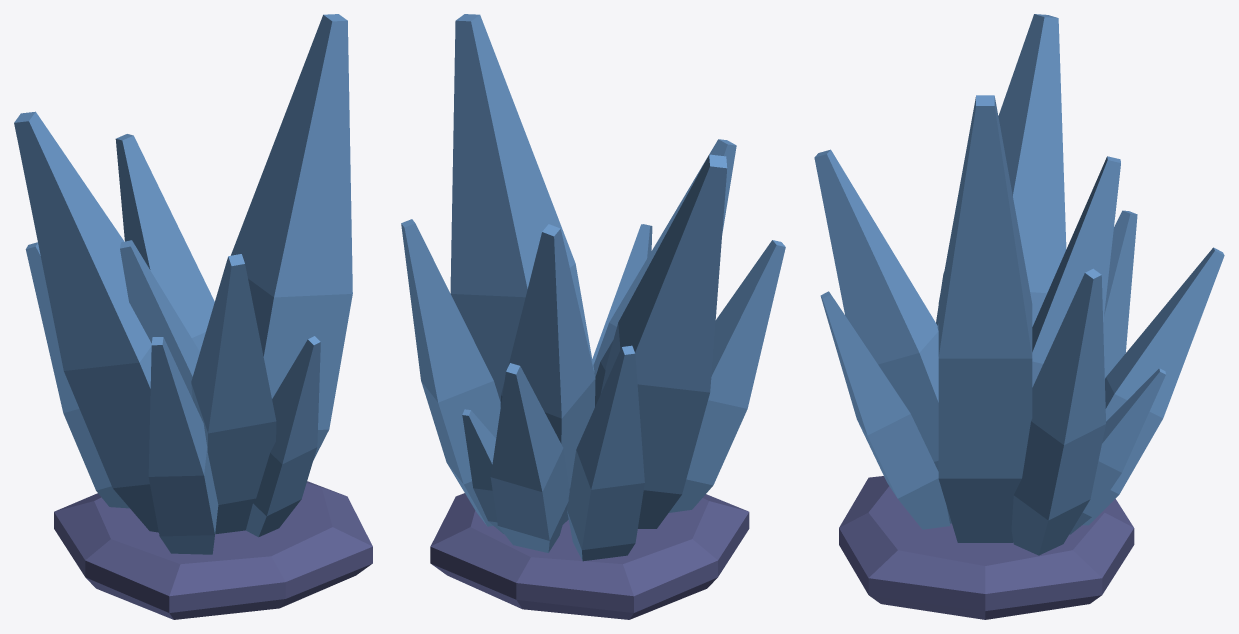
Rendered from crystal.glb.
3 views of the same model, side by side, from view 1: azimuth 30°, elevation 25°; view 2: azimuth 150°, elevation 25°; view 3: azimuth 270°, elevation 25° (orthographic).
Parts seen in each view (by area): view 1: Cube.002, Cube.004, Cube.001, Cube.012, Cube.010, Cube.003, Cube.011, Cube.005, Cube.009; view 2: Cube.002, Cube.004, Cube.001, Cube.006, Cube.009, Cube.003, Cube.008, Cube.010, Cube.007, Cube.012, Cube.011; view 3: Cube.002, Cube.001, Cube.006, Cube.012, Cube.004, Cube.011, Cube.008, Cube.003, Cube.007, Cube.009.
Part boxes in pixels (box(x1,y1,x2,y2)): Cube.002: box(231, 14, 352, 460); Cube.004: box(14, 111, 158, 532); Cube.001: box(54, 481, 372, 619); Cube.012: box(191, 254, 276, 534); Cube.010: box(148, 337, 218, 554); Cube.003: box(115, 134, 214, 351); Cube.011: box(245, 336, 320, 537); Cube.005: box(120, 240, 199, 399); Cube.009: box(25, 242, 129, 508); Cube.002: box(450, 14, 594, 402); Cube.004: box(601, 154, 727, 528); Cube.001: box(430, 493, 749, 619); Cube.006: box(401, 219, 500, 526); Cube.009: box(567, 345, 644, 561); Cube.003: box(500, 224, 595, 524); Cube.008: box(490, 363, 569, 552); Cube.010: box(669, 240, 785, 512); Cube.007: box(462, 409, 503, 533); Cube.012: box(593, 139, 736, 376); Cube.011: box(592, 224, 652, 365); Cube.002: box(938, 95, 1032, 542); Cube.001: box(839, 476, 1134, 619); Cube.006: box(1011, 268, 1105, 555); Cube.012: box(814, 149, 951, 523); Cube.004: box(936, 14, 1066, 326); Cube.011: box(820, 291, 950, 529); Cube.008: box(1082, 247, 1224, 525); Cube.003: box(1032, 156, 1120, 387); Cube.007: box(1069, 368, 1165, 534); Cube.009: box(1103, 210, 1137, 378).
Size of the model in its own units: 2.82 by 4.56 by 3.26.
12 materials, 12 textured.
